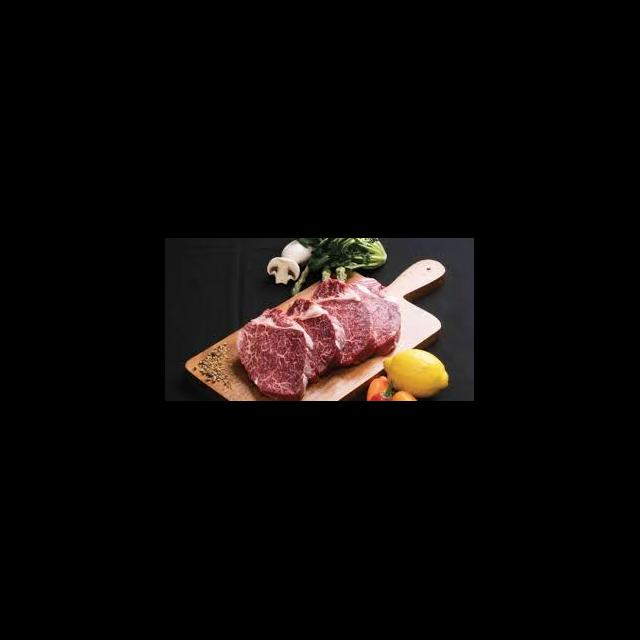beef: (239, 321, 309, 401), (318, 281, 373, 365)
